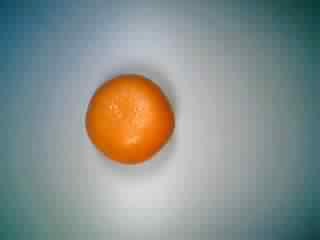orange: (78, 68, 174, 164)
